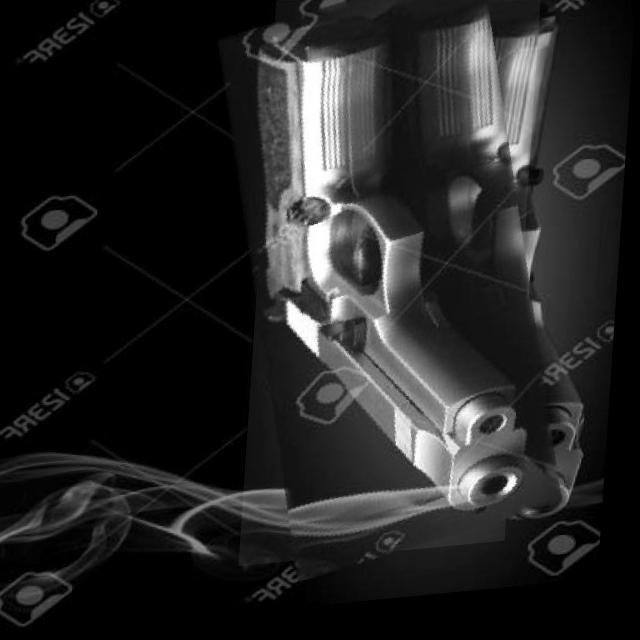handgun: (218, 0, 571, 584)
